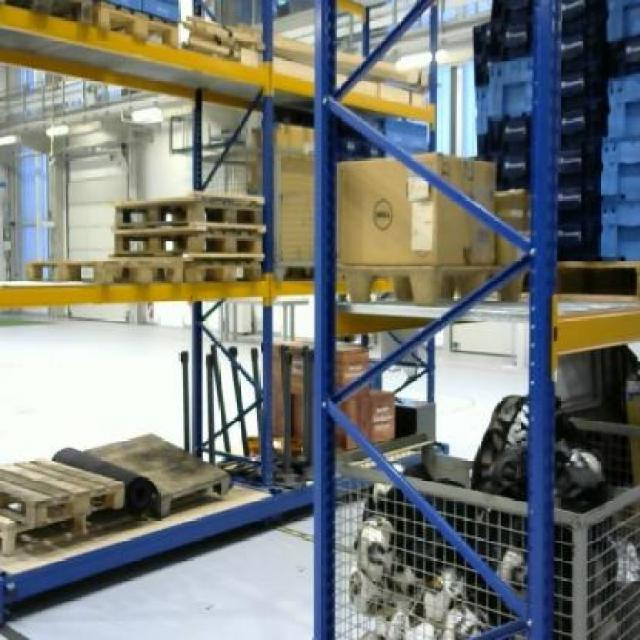box: (334, 150, 496, 262), (273, 125, 313, 266)
